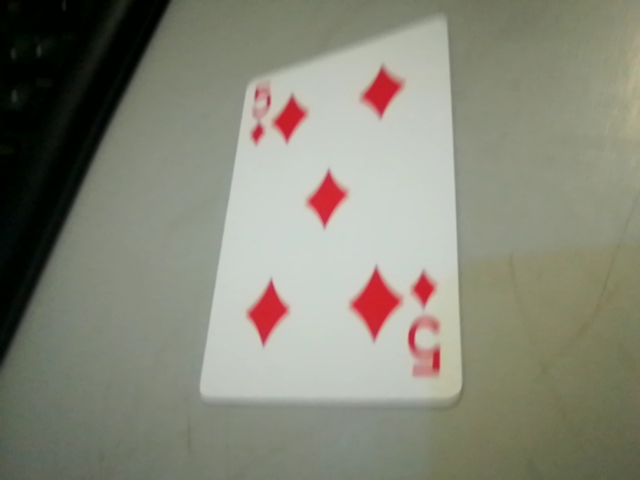fk 5: (397, 260, 454, 389)
